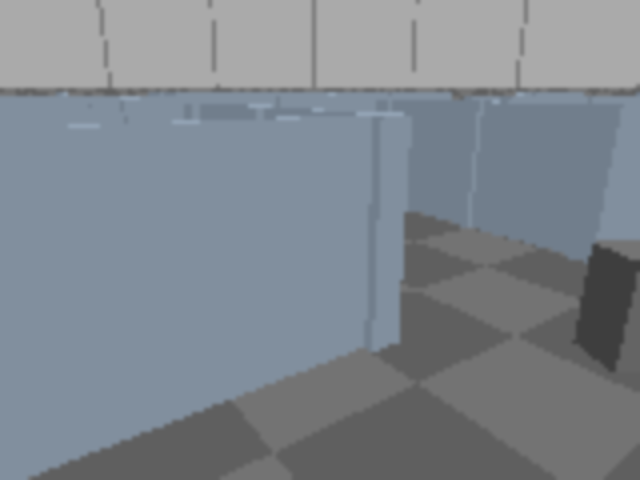obstacle: (573, 239, 638, 374)
